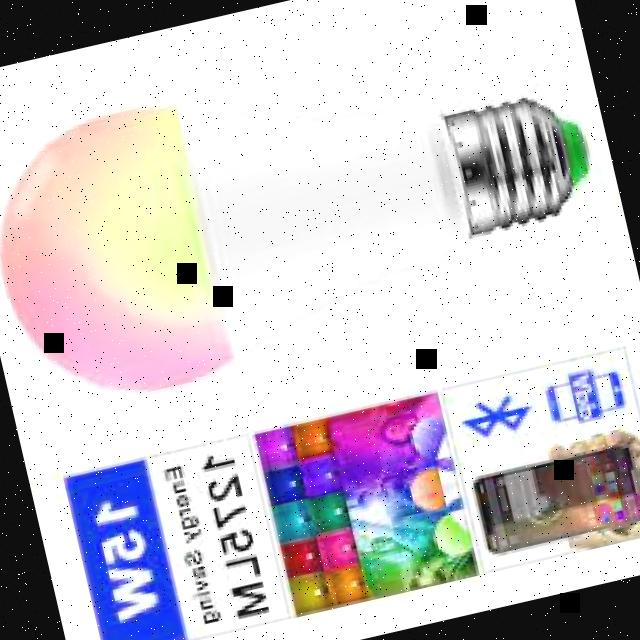light_bulb: (0, 0, 628, 436)
